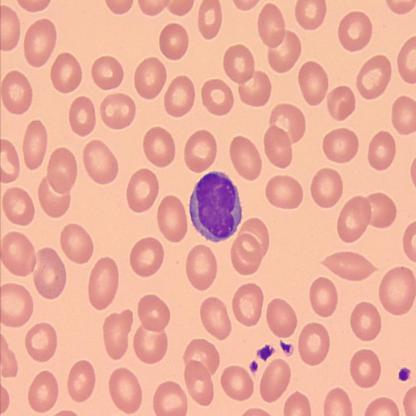Lymphocyte: (189, 170, 244, 242)
